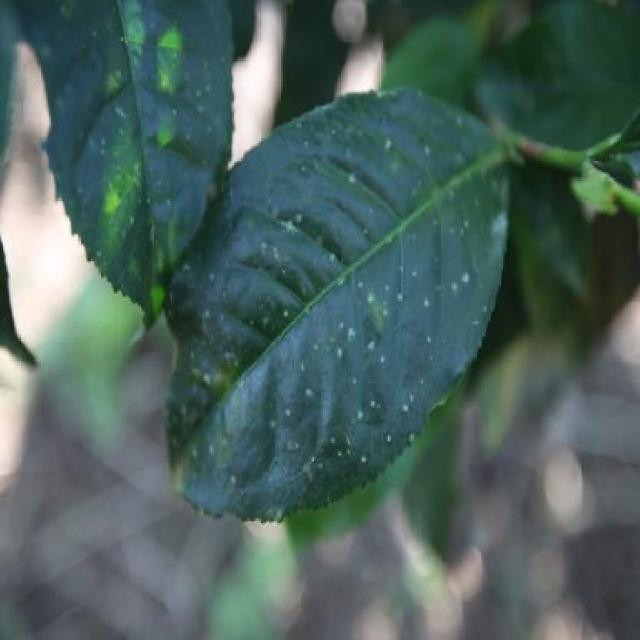White spot of tea: (129, 75, 542, 548)
